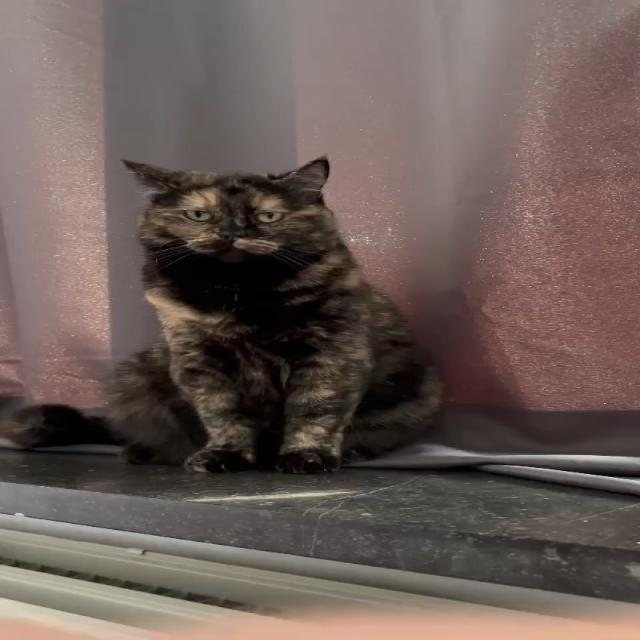authorized: (103, 154, 445, 475)
